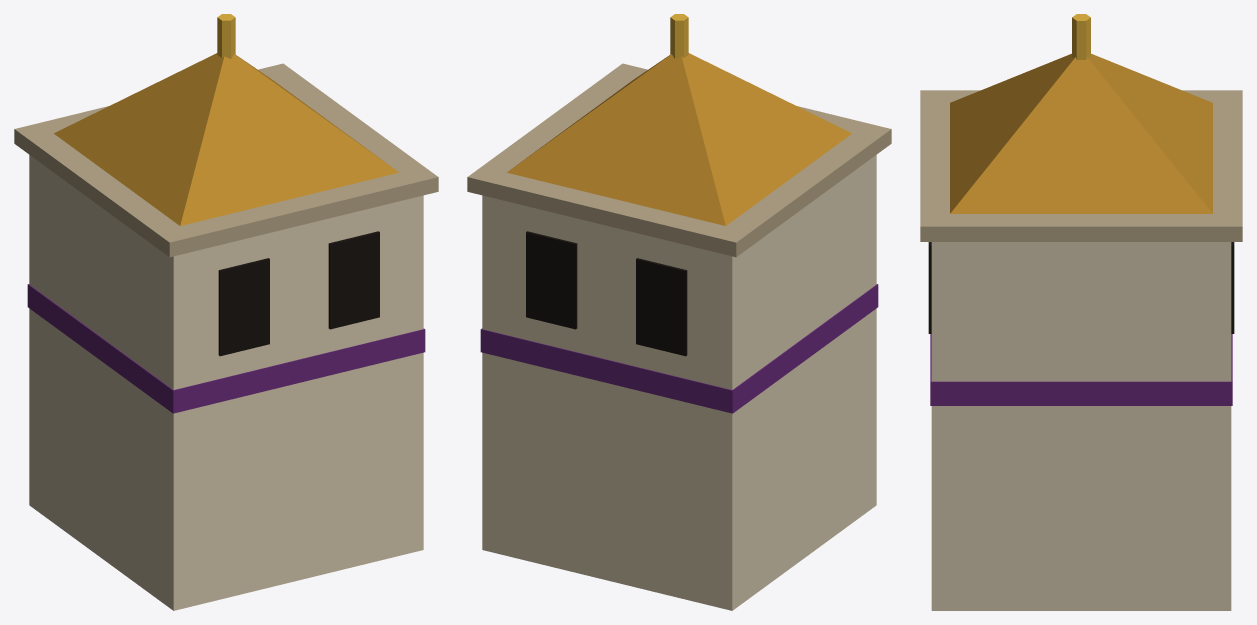
File: SM_ImpTower.fbx
3 renders of one model, left to right at view 1: azimuth 30°, elevation 25°; view 2: azimuth 150°, elevation 25°; view 3: azimuth 270°, elevation 25°, orthographic. The views are drawn at different scales.
Parts seen in each view (by area): view 1: SM_ImpTower; view 2: SM_ImpTower; view 3: SM_ImpTower.
Boxes of the visible parts, x1=… form: SM_ImpTower: x1=14, y1=14, x2=438, y2=610; SM_ImpTower: x1=467, y1=14, x2=891, y2=610; SM_ImpTower: x1=920, y1=14, x2=1242, y2=610.
Size of the model in its own units: 8.6 by 8.6 by 15.6.
